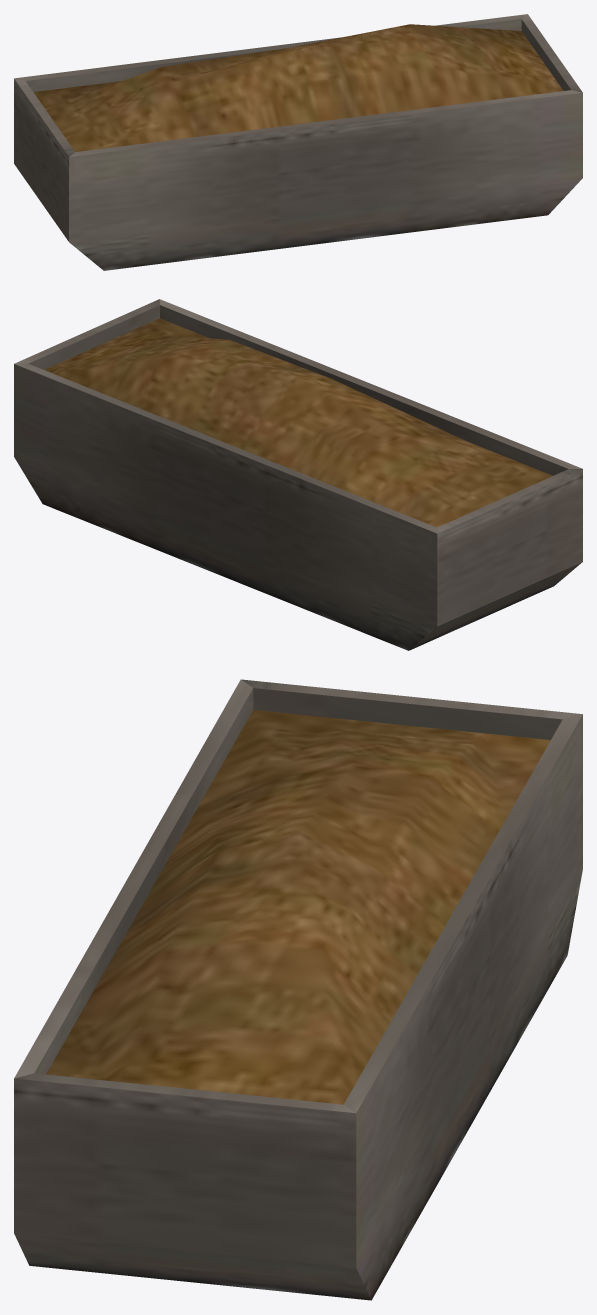
File: feed gutter.fbx
The picture shows the model from 3 angles, top to bottom: view 1: azimuth 30°, elevation 25°; view 2: azimuth 150°, elevation 25°; view 3: azimuth 270°, elevation 25°; orthographic projection. The views are drawn at different scales.
Parts seen in each view (by area): view 1: feed gutter; view 2: feed gutter; view 3: feed gutter.
Boxes of the visible parts, x1,y1,x2,y2 form: feed gutter: [14, 14, 582, 270]; feed gutter: [14, 299, 582, 650]; feed gutter: [14, 679, 582, 1300].
Bounding box in the file's own units: 1766 × 529 × 979.
